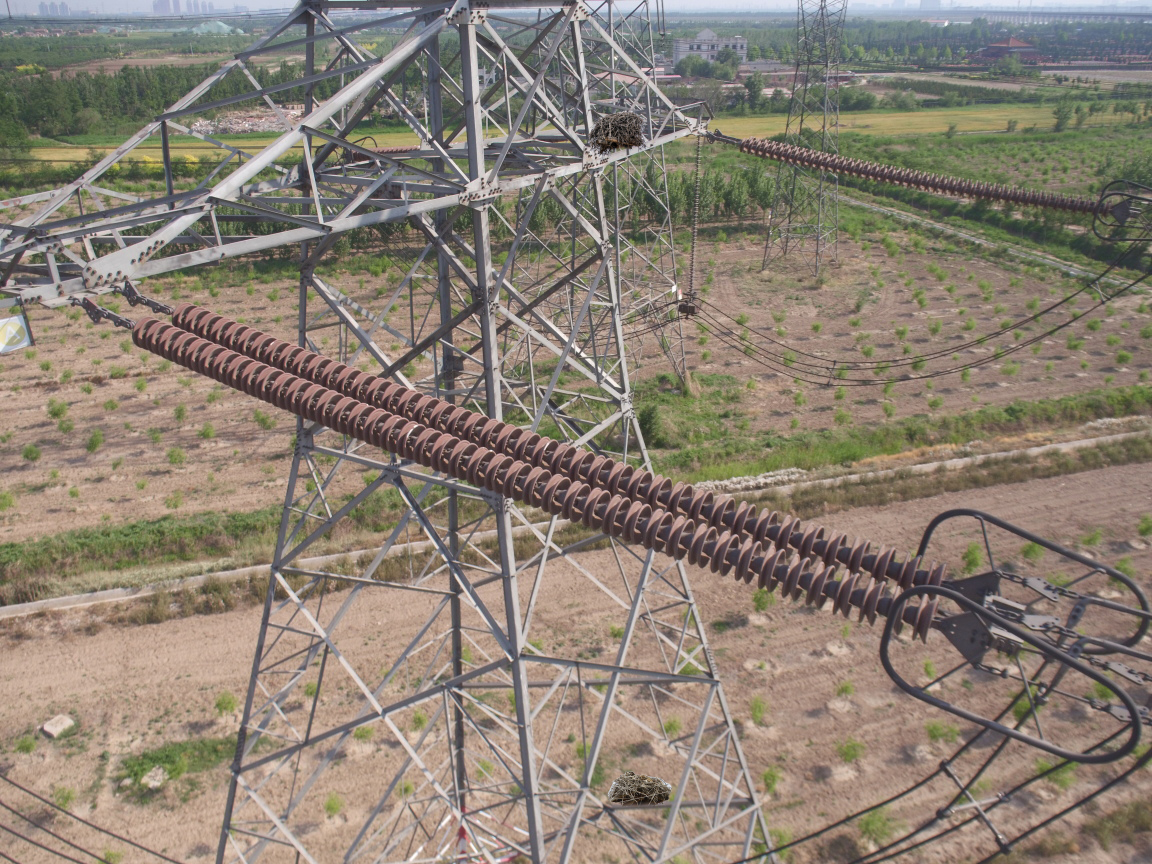nest: (599, 769, 677, 808), (586, 113, 650, 153)
